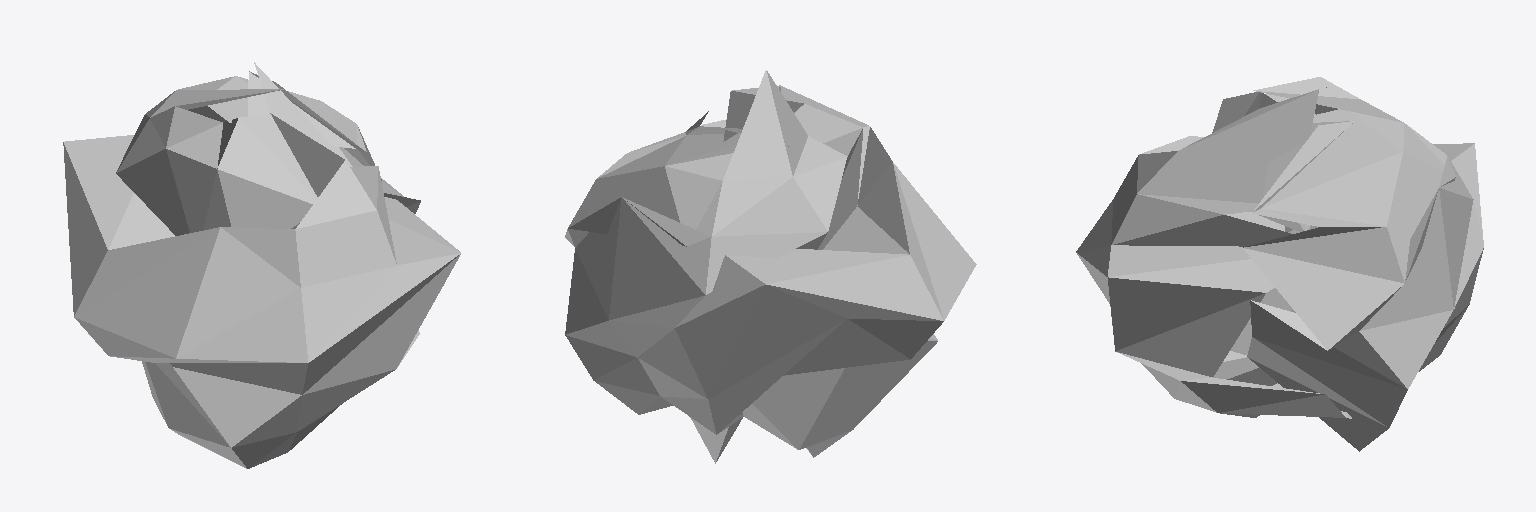
The model's file is paperball.obj.
3 views of the same model, side by side, from view 1: azimuth 30°, elevation 25°; view 2: azimuth 150°, elevation 25°; view 3: azimuth 270°, elevation 25° (orthographic).
Visible parts, largest first — view 1: pSphere1; view 2: pSphere1; view 3: pSphere1.
Part boxes in pixels (bbox=[...]): pSphere1: bbox=[63, 62, 460, 468]; pSphere1: bbox=[565, 70, 976, 463]; pSphere1: bbox=[1076, 77, 1483, 451].
Bounding box in the file's own units: 2.2 × 2.06 × 2.17.